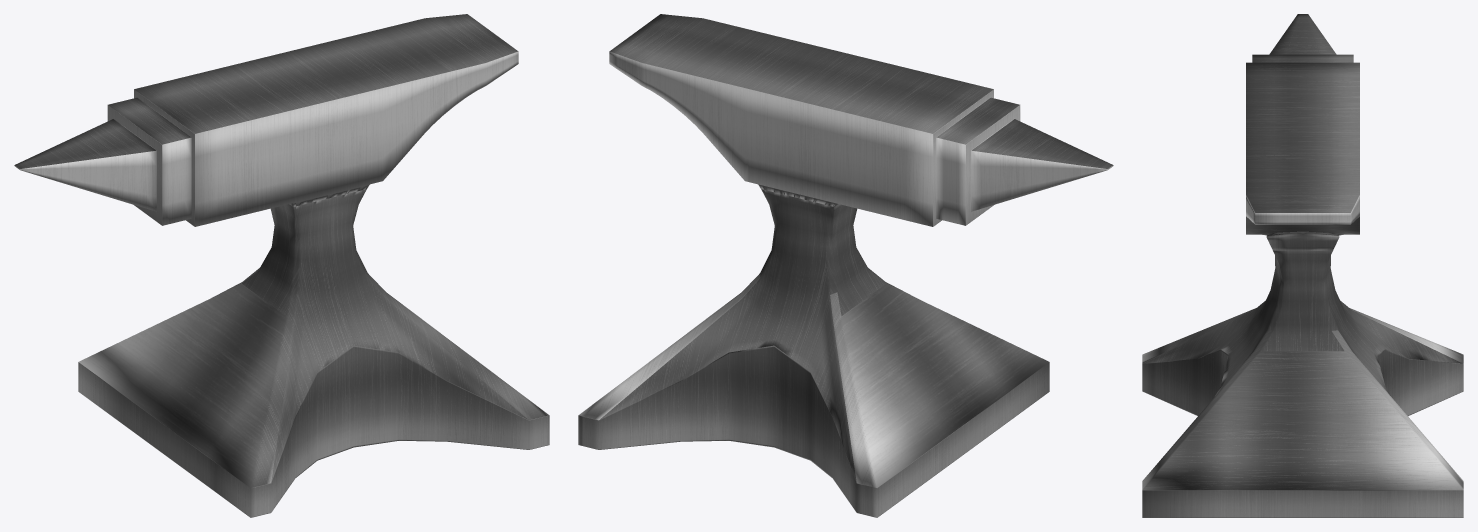
Rendered from anvil.fbx.
3 renders of one model, left to right at view 1: azimuth 30°, elevation 25°; view 2: azimuth 150°, elevation 25°; view 3: azimuth 270°, elevation 25°, orthographic. The views are drawn at different scales.
Visible parts, largest first — view 1: Plane; view 2: Plane; view 3: Plane.
Part boxes in pixels (<box>): Plane: <box>14,14,549,517</box>; Plane: <box>578,14,1113,517</box>; Plane: <box>1142,14,1463,517</box>.
Size of the model in its own units: 125 by 86.45 by 78.74.
1 material, 1 textured.
